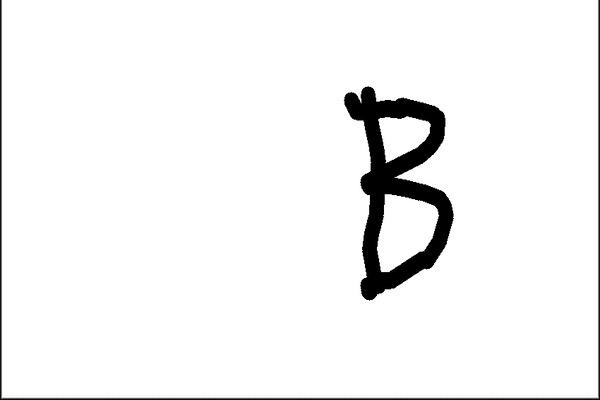B: (332, 76, 465, 308)
